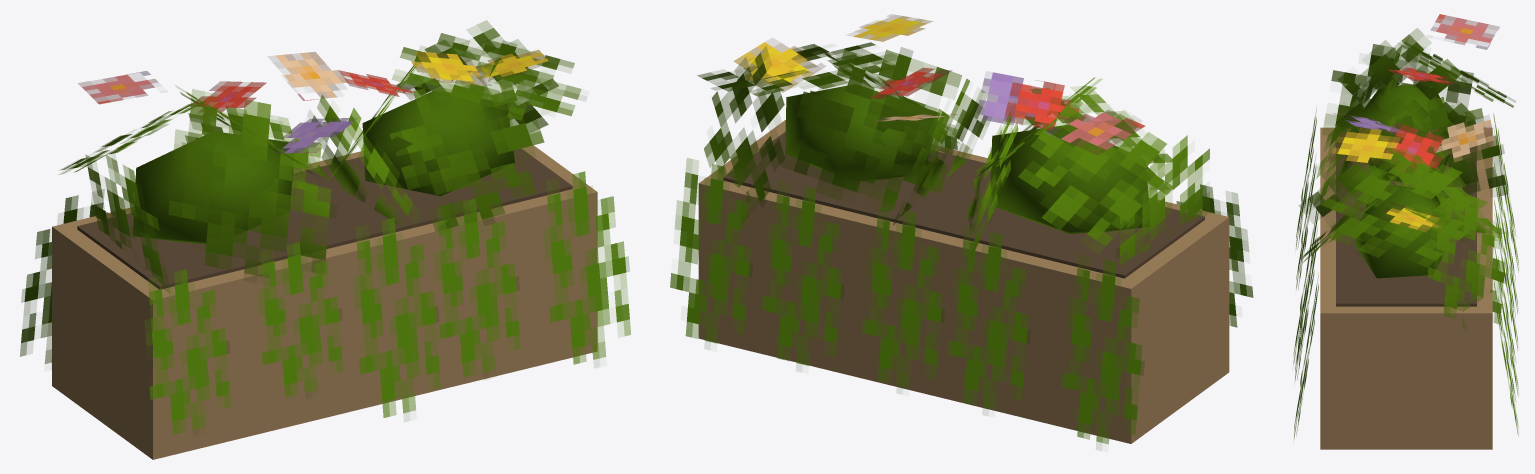
Rendered from planter_overflow.glb.
3 renders of one model, left to right at view 1: azimuth 30°, elevation 25°; view 2: azimuth 150°, elevation 25°; view 3: azimuth 270°, elevation 25°, orthographic. The views are drawn at different scales.
Visible parts, largest first — view 1: planter_overflow_Trellis_Wood, planter_overflow_Leaf_Mid, planter_overflow_Leaf_Ivy, planter_overflow_Core_Mid, planter_overflow_Soil_Dark, planter_overflow_Bloom_Yellow, planter_overflow_Bloom_Red, planter_overflow_Bloom_Cream, planter_overflow_Bloom_Pink, planter_overflow_Bloom_Violet; view 2: planter_overflow_Trellis_Wood, planter_overflow_Leaf_Ivy, planter_overflow_Leaf_Mid, planter_overflow_Core_Mid, planter_overflow_Soil_Dark, planter_overflow_Bloom_Yellow, planter_overflow_Bloom_Red, planter_overflow_Bloom_Pink, planter_overflow_Bloom_Violet; view 3: planter_overflow_Trellis_Wood, planter_overflow_Leaf_Mid, planter_overflow_Core_Mid, planter_overflow_Soil_Dark, planter_overflow_Leaf_Ivy, planter_overflow_Bloom_Yellow, planter_overflow_Bloom_Red, planter_overflow_Bloom_Cream, planter_overflow_Bloom_Pink, planter_overflow_Bloom_Violet.
Boxes of the visible parts, x1,y1,x2,y2 form: planter_overflow_Trellis_Wood: (52,145,597,459); planter_overflow_Leaf_Mid: (59,20,581,292); planter_overflow_Leaf_Ivy: (20,92,630,434); planter_overflow_Core_Mid: (132,90,514,243); planter_overflow_Soil_Dark: (77,148,572,289); planter_overflow_Bloom_Yellow: (411,49,548,85); planter_overflow_Bloom_Red: (189,70,413,116); planter_overflow_Bloom_Cream: (268,52,348,100); planter_overflow_Bloom_Pink: (78,71,158,104); planter_overflow_Bloom_Violet: (276,118,353,153); planter_overflow_Trellis_Wood: (698,120,1229,443); planter_overflow_Leaf_Ivy: (670,90,1253,444); planter_overflow_Leaf_Mid: (697,42,1209,265); planter_overflow_Core_Mid: (785,85,1149,233); planter_overflow_Soil_Dark: (723,132,1204,278); planter_overflow_Bloom_Yellow: (734,14,932,92); planter_overflow_Bloom_Red: (870,67,1079,130); planter_overflow_Bloom_Pink: (1045,110,1145,155); planter_overflow_Bloom_Violet: (977,72,1055,125); planter_overflow_Trellis_Wood: (1320,127,1492,449); planter_overflow_Leaf_Mid: (1299,28,1515,324); planter_overflow_Core_Mid: (1354,84,1453,278); planter_overflow_Soil_Dark: (1336,132,1476,306); planter_overflow_Leaf_Ivy: (1293,108,1518,439); planter_overflow_Bloom_Yellow: (1327,128,1441,231); planter_overflow_Bloom_Red: (1384,67,1459,171); planter_overflow_Bloom_Cream: (1429,115,1495,162); planter_overflow_Bloom_Pink: (1431,14,1499,49); planter_overflow_Bloom_Violet: (1333,113,1405,133).
Size of the model in its own units: 1.66 by 0.9933 by 0.7473.
Materials: 10 (7 with a texture image).
